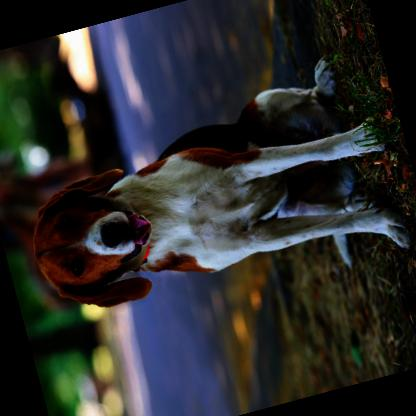DOG: (0, 44, 412, 333)
